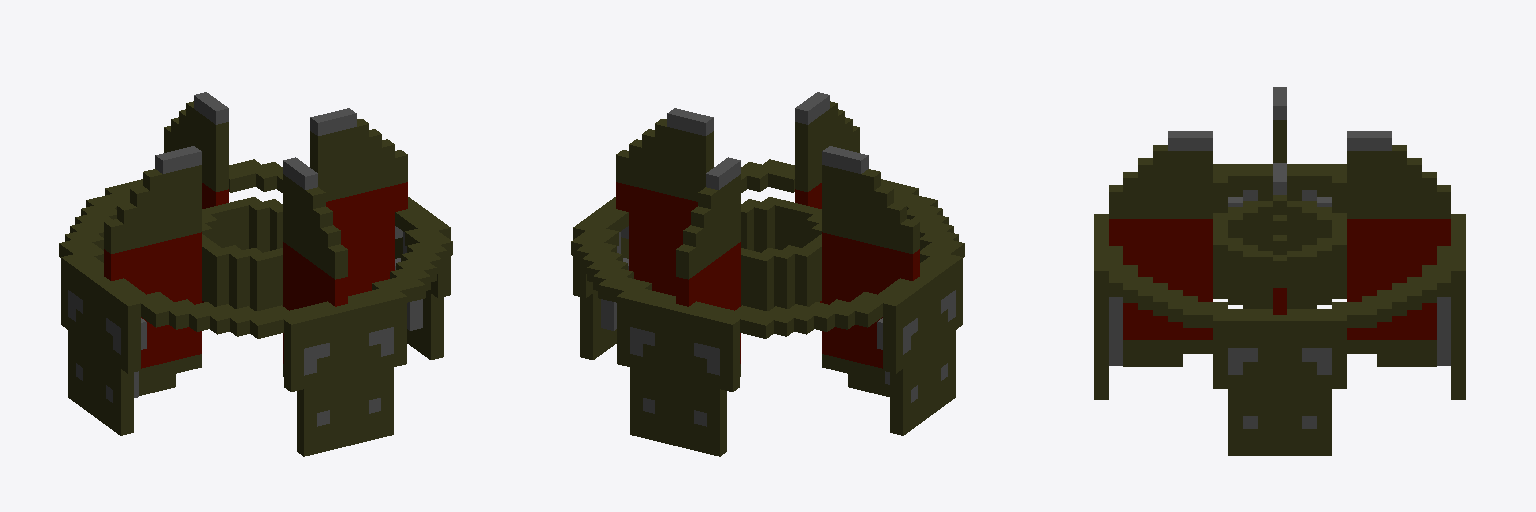
3 renders of one model, left to right at view 1: azimuth 30°, elevation 25°; view 2: azimuth 150°, elevation 25°; view 3: azimuth 270°, elevation 25°, orthographic.
Visible parts, largest first — view 1: nukeBase; view 2: nukeBase; view 3: nukeBase.
Part boxes in pixels (bbox=[...]): nukeBase: bbox=[59, 92, 452, 456]; nukeBase: bbox=[571, 92, 964, 456]; nukeBase: bbox=[1094, 87, 1465, 455].
Size of the model in its own units: 25 by 18 by 25.
1 materials, 1 textured.